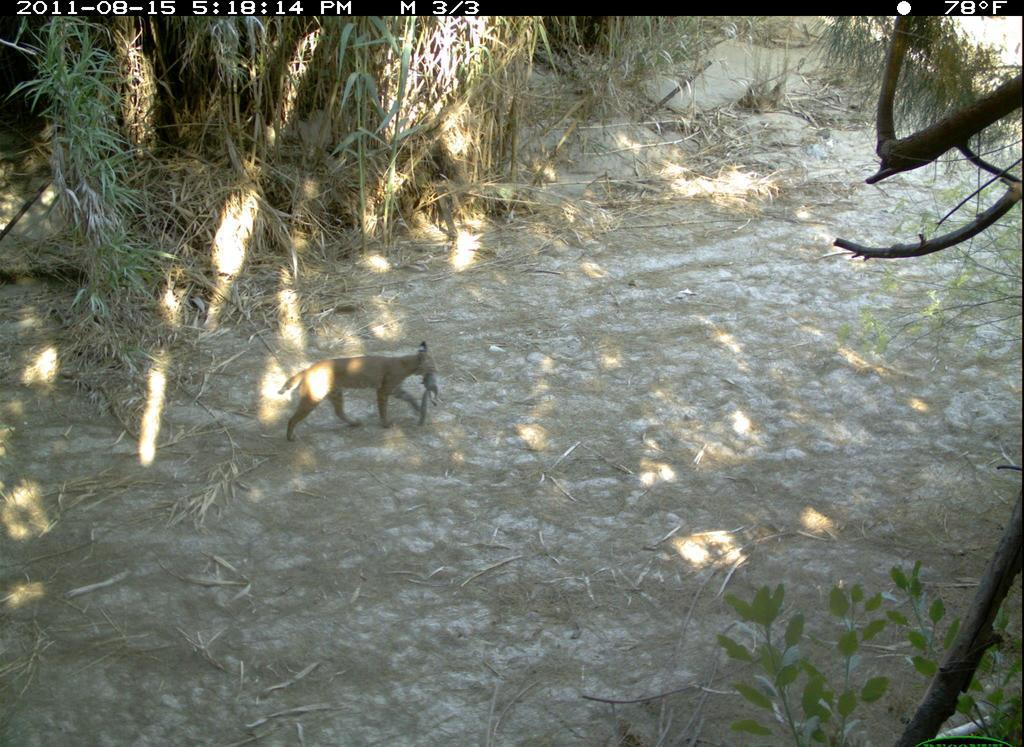bobcat: (254, 331, 450, 474)
